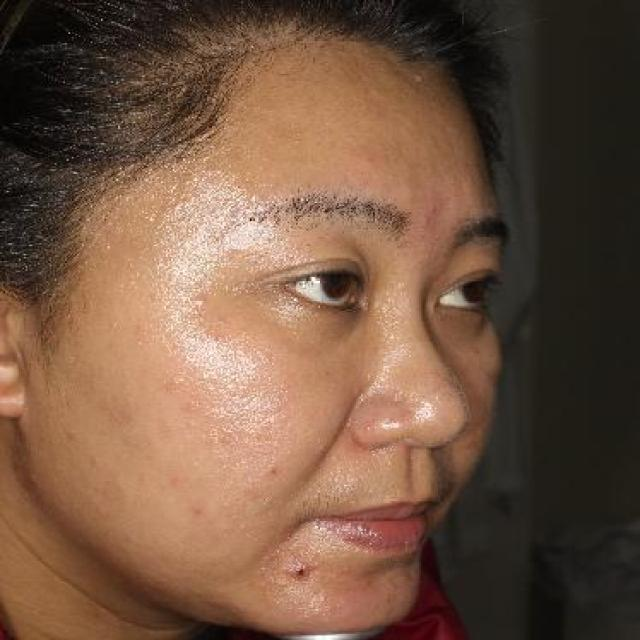papules: (180, 286, 216, 312), (212, 234, 248, 258)
pustules: (279, 558, 322, 584)
whiteheads: (211, 314, 236, 331)
